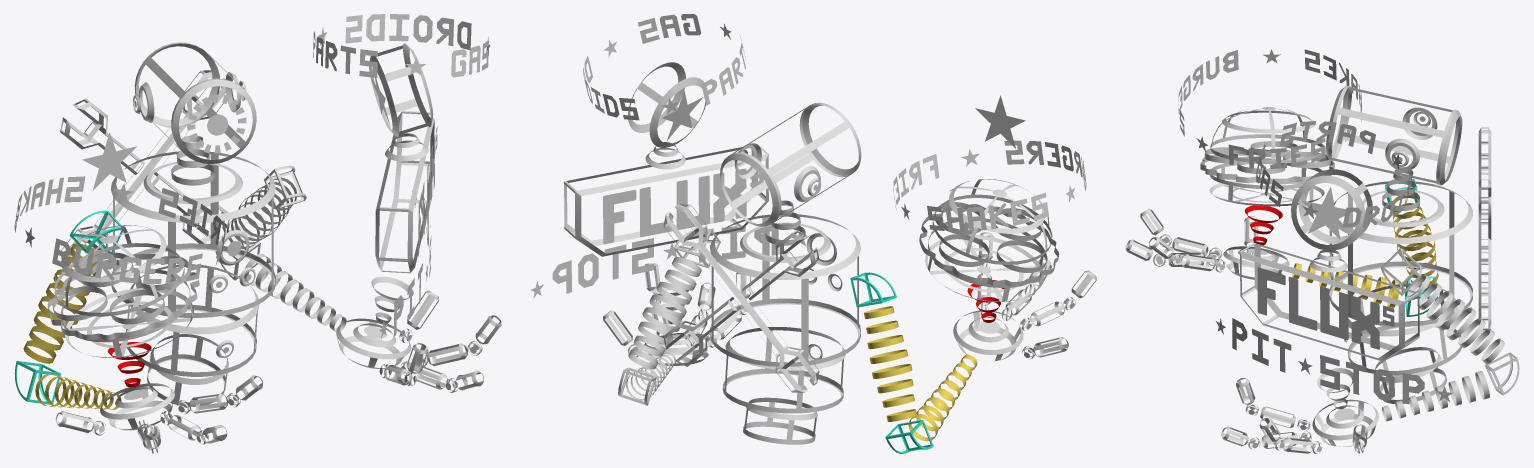
The model's file is flux.glb.
The picture shows the model from 3 angles, left to right: view 1: azimuth 30°, elevation 25°; view 2: azimuth 150°, elevation 25°; view 3: azimuth 270°, elevation 25°; orthographic projection. The views are drawn at different scales.
Visible parts, largest first — view 1: Object_3, Object_2, Object_2.001, Object_3.005, Object_3.004, Object_3.001, Object_2.006, Object_2.005, Object_3.006, Object_3.003; view 2: Object_3, Object_2, Object_2.001, Object_3.005, Object_3.001, Object_3.004, Object_2.006, Object_2.005; view 3: Object_3, Object_2, Object_2.001, Object_3.005, Object_3.004, Object_3.001, Object_2.006, Object_3.006, Object_2.005.
Part boxes in pixels (x1,y1,x2,y2): Object_3: (60,31,501,406); Object_2: (60,14,501,392); Object_2.001: (15,176,262,452); Object_3.005: (14,132,221,357); Object_3.004: (57,375,262,453); Object_3.001: (24,243,121,409); Object_2.006: (23,243,98,363); Object_2.005: (35,374,121,409); Object_3.006: (108,342,151,387); Object_3.003: (15,361,60,404); Object_3: (564,43,861,444); Object_2: (531,14,860,437); Object_2.001: (893,140,1096,361); Object_3.005: (901,95,1086,301); Object_3.001: (864,306,977,441); Object_3.004: (953,232,1096,361); Object_2.006: (864,307,916,421); Object_2.005: (909,354,977,441); Object_3: (1216,85,1519,453); Object_2: (1221,86,1512,453); Object_2.001: (1125,49,1361,274); Object_3.005: (1178,96,1361,206); Object_3.004: (1126,208,1289,280); Object_3.001: (1292,196,1438,306); Object_2.006: (1393,195,1438,284); Object_3.006: (1244,205,1282,245); Object_2.005: (1292,263,1399,308).
Bounding box in the file's own units: 1.98 × 1.42 × 1.59.
